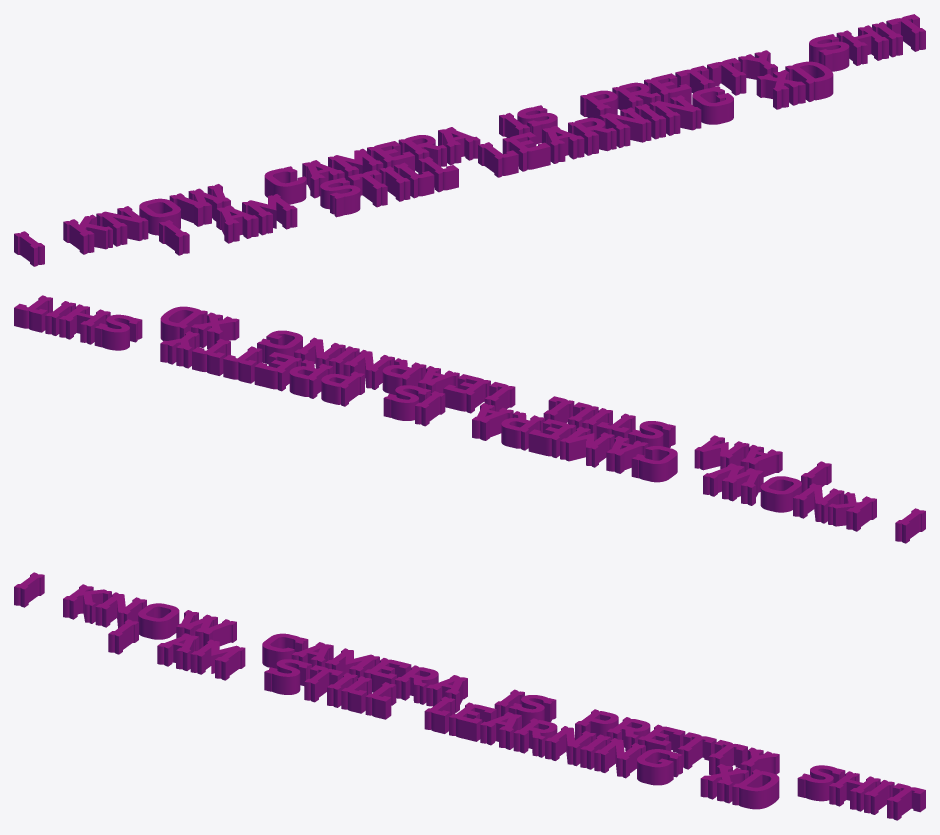
Rendered from IAmPrettyShit.fbx.
3 renders of one model, top to bottom at view 1: azimuth 30°, elevation 25°; view 2: azimuth 150°, elevation 25°; view 3: azimuth 330°, elevation 25°, orthographic.
Visible parts, largest first — view 1: Text; view 2: Text; view 3: Text.
Boxes of the visible parts, <box> form: Text: <box>14,14,925,266</box>; Text: <box>14,295,925,543</box>; Text: <box>14,572,925,820</box>.
Bounding box in the file's own units: 2411 × 47 × 212.
